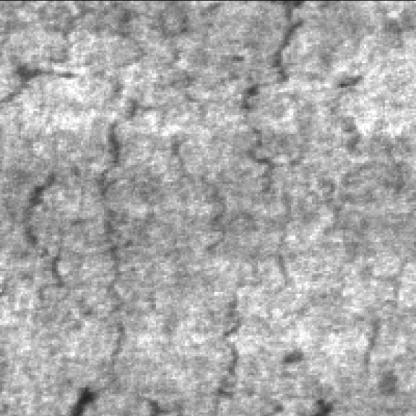crazing: (102, 46, 310, 414), (19, 8, 154, 381), (246, 2, 370, 258)
